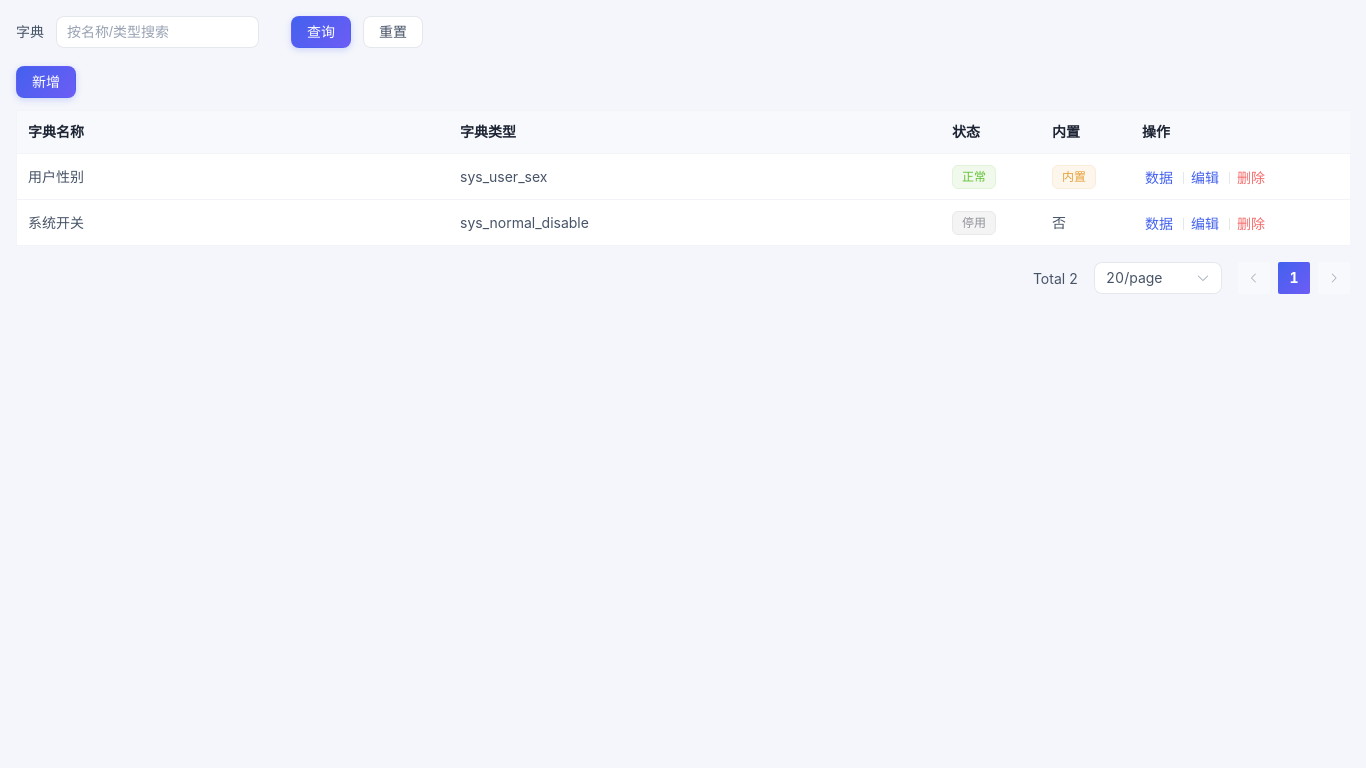
字典管理页 › 点「数据」打开抽屉并按 dict_type_id 拉数据
This screenshot has width=1366, height=768.
Click the button "数据" in the row of "用户性别": [1159, 178] box [1142,168,1176,188]
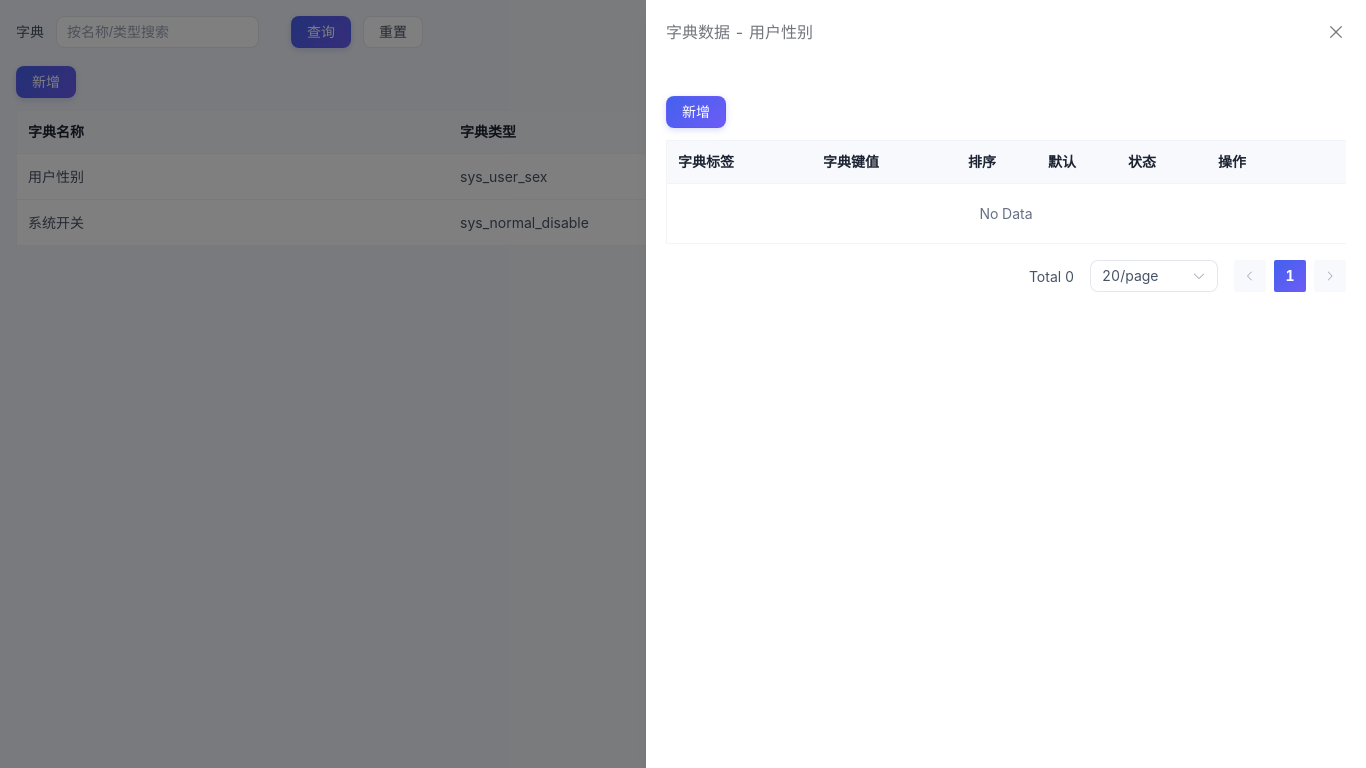
Now the text "字典数据 - 用户性别" is shown, box [666,22,813,42]
